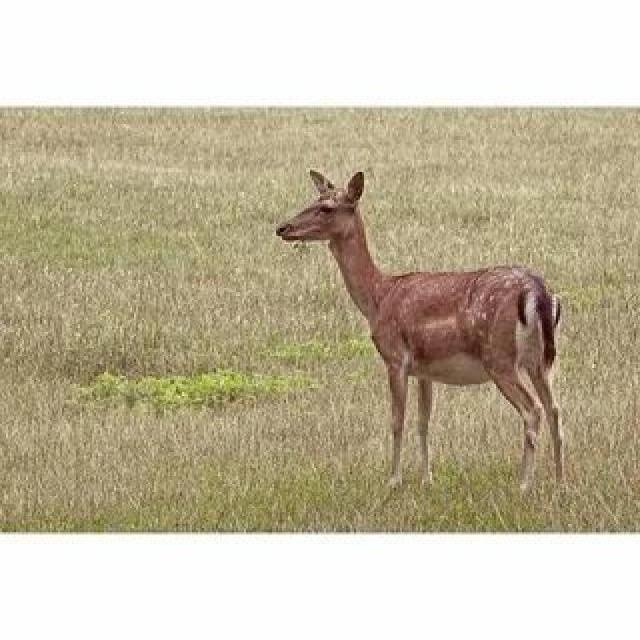deer: (248, 151, 606, 489)
